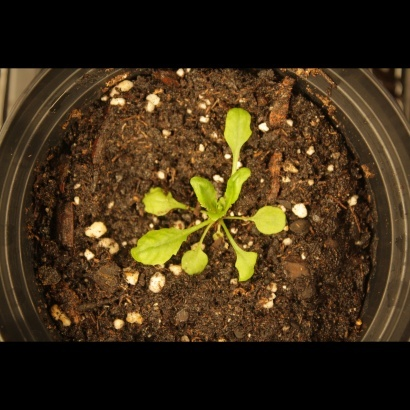leaf: (130, 224, 187, 271), (219, 104, 259, 154), (228, 246, 268, 292), (250, 199, 291, 243), (188, 170, 222, 218), (138, 185, 179, 220), (225, 163, 252, 216), (181, 242, 210, 279)
